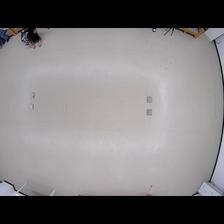fall: (20, 28, 45, 52)
